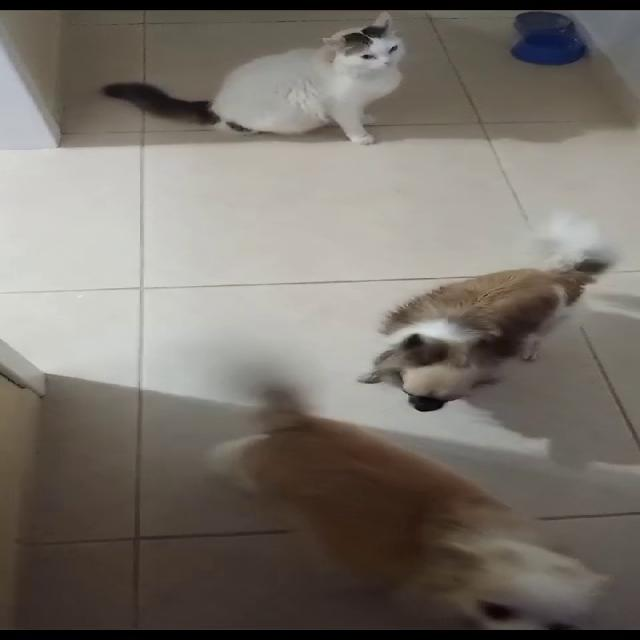Pedrita: (378, 226, 638, 427)
Theo: (196, 361, 627, 639)
